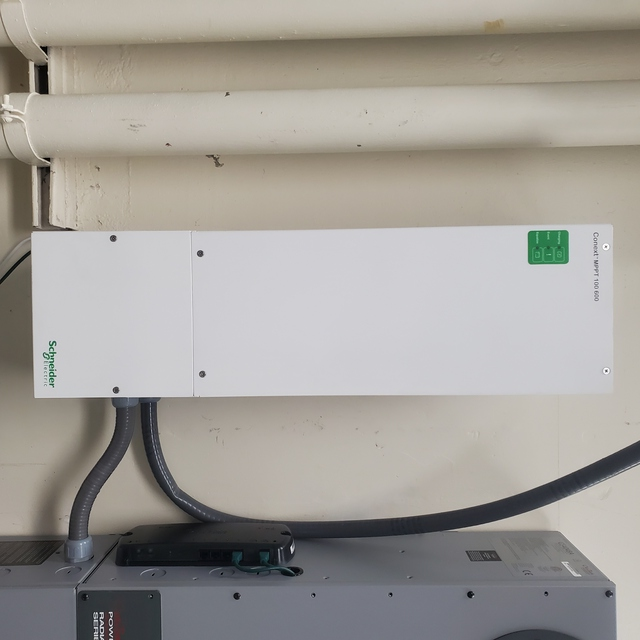charge_controller: (31, 230, 617, 398)
